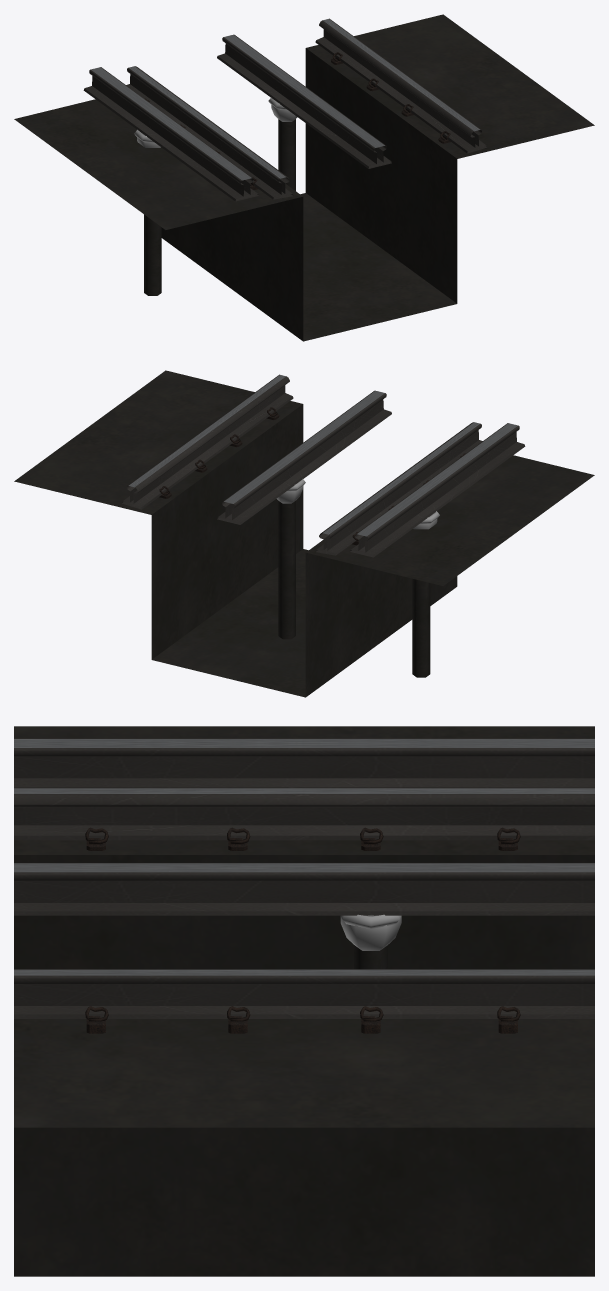
Rendered from platformpits.obj.
3 views of the same model, one above another, from view 1: azimuth 30°, elevation 25°; view 2: azimuth 150°, elevation 25°; view 3: azimuth 270°, elevation 25° (orthographic). The views are drawn at different scales.
Visible parts, largest first — view 1: Cube.001, Full_LOD0_LOD0.031, Full_LOD0_LOD0.019, Full_LOD0_LOD0.022, Sphere.006, Sphere.007; view 2: Cube.001, Full_LOD0_LOD0.031, Full_LOD0_LOD0.019, Full_LOD0_LOD0.022, Sphere.007, Sphere.006; view 3: Cube.001, Full_LOD0_LOD0.031, Full_LOD0_LOD0.022, Full_LOD0_LOD0.019, Sphere.007.
Boxes of the visible parts, x1,y1,x2,y2 form: Cube.001: [14, 14, 594, 341]; Full_LOD0_LOD0.031: [126, 18, 487, 199]; Full_LOD0_LOD0.019: [83, 67, 258, 201]; Full_LOD0_LOD0.022: [217, 34, 391, 168]; Sphere.006: [134, 129, 161, 295]; Sphere.007: [268, 97, 297, 190]; Cube.001: [14, 370, 594, 697]; Full_LOD0_LOD0.031: [121, 374, 482, 555]; Full_LOD0_LOD0.019: [350, 423, 525, 557]; Full_LOD0_LOD0.022: [217, 390, 391, 524]; Sphere.007: [276, 479, 305, 639]; Sphere.006: [412, 511, 439, 677]; Cube.001: [14, 726, 594, 1276]; Full_LOD0_LOD0.031: [14, 788, 594, 1018]; Full_LOD0_LOD0.022: [14, 862, 594, 915]; Full_LOD0_LOD0.019: [14, 738, 594, 787]; Sphere.007: [340, 914, 401, 969].
Bounding box in the file's own units: 3.34 × 1.35 × 2.04.
Materials: 5 (5 with a texture image).
